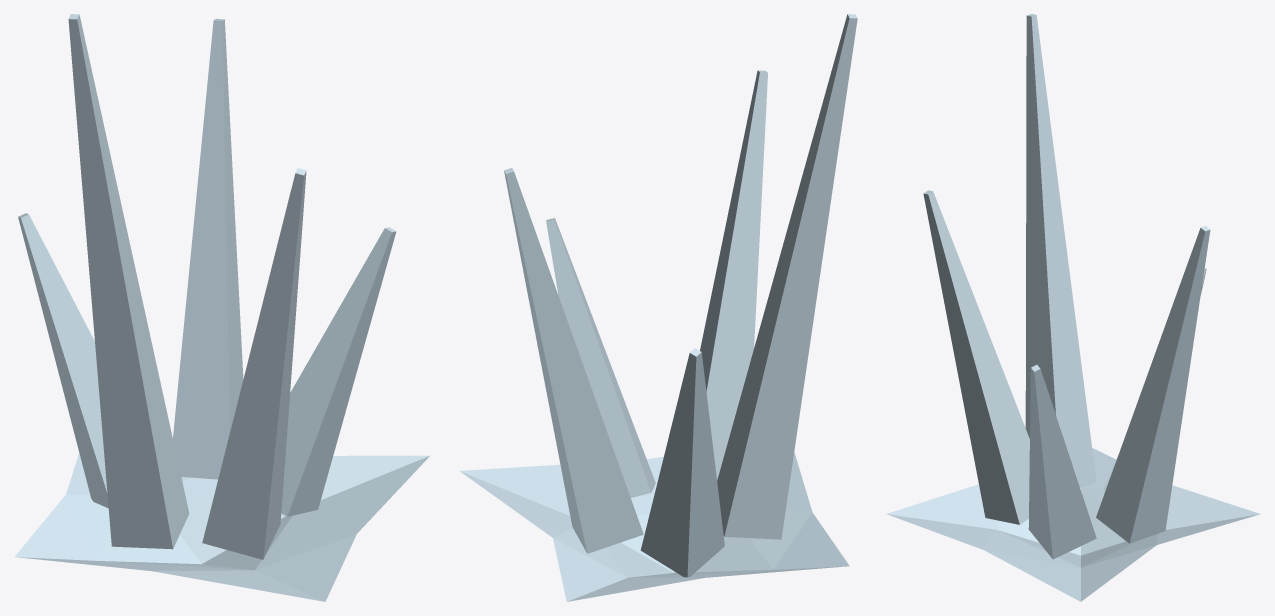
Rendered from ice_shard_v29.glb.
3 renders of one model, left to right at view 1: azimuth 30°, elevation 25°; view 2: azimuth 150°, elevation 25°; view 3: azimuth 270°, elevation 25°, orthographic. The views are drawn at different scales.
Parts seen in each view (by area): view 1: lod0; view 2: lod0; view 3: lod0.
Part boxes in pixels (left/top/right/bottom): lod0: left=15, top=14, right=429, bottom=601; lod0: left=460, top=14, right=857, bottom=601; lod0: left=886, top=14, right=1260, bottom=601.
Size of what is drawn, in the model's own units: 0.7439 by 1.04 by 0.7375.
